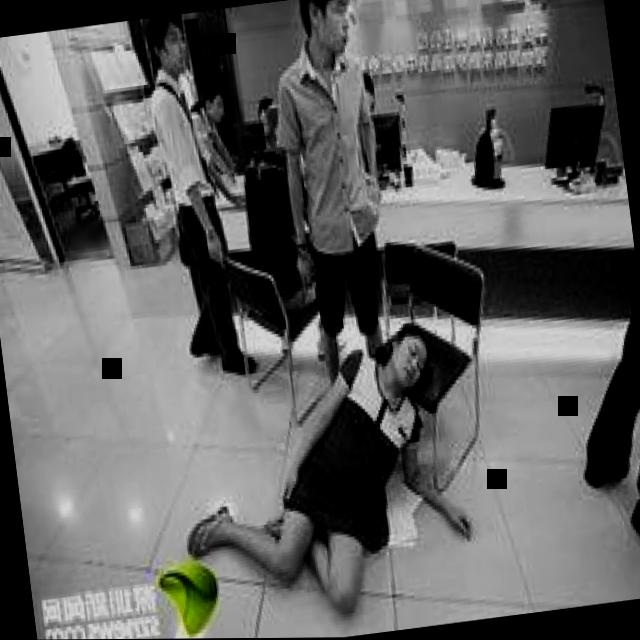Fall-Detected: (145, 303, 500, 636)
